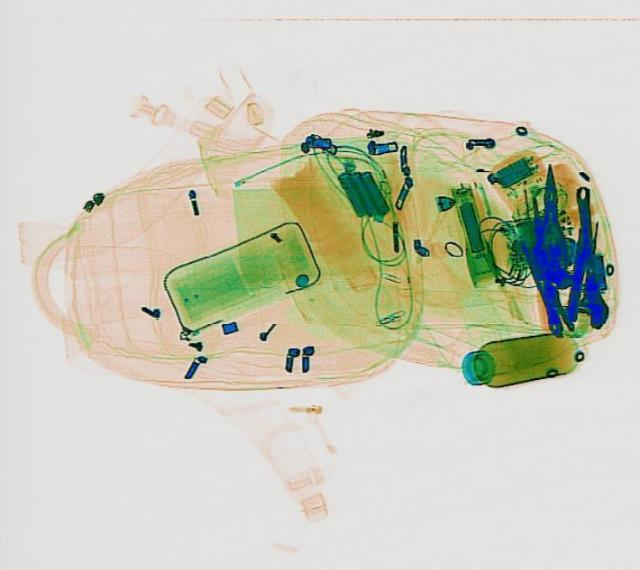Pliers: (528, 162, 566, 265)
Wrench: (574, 183, 610, 327)
